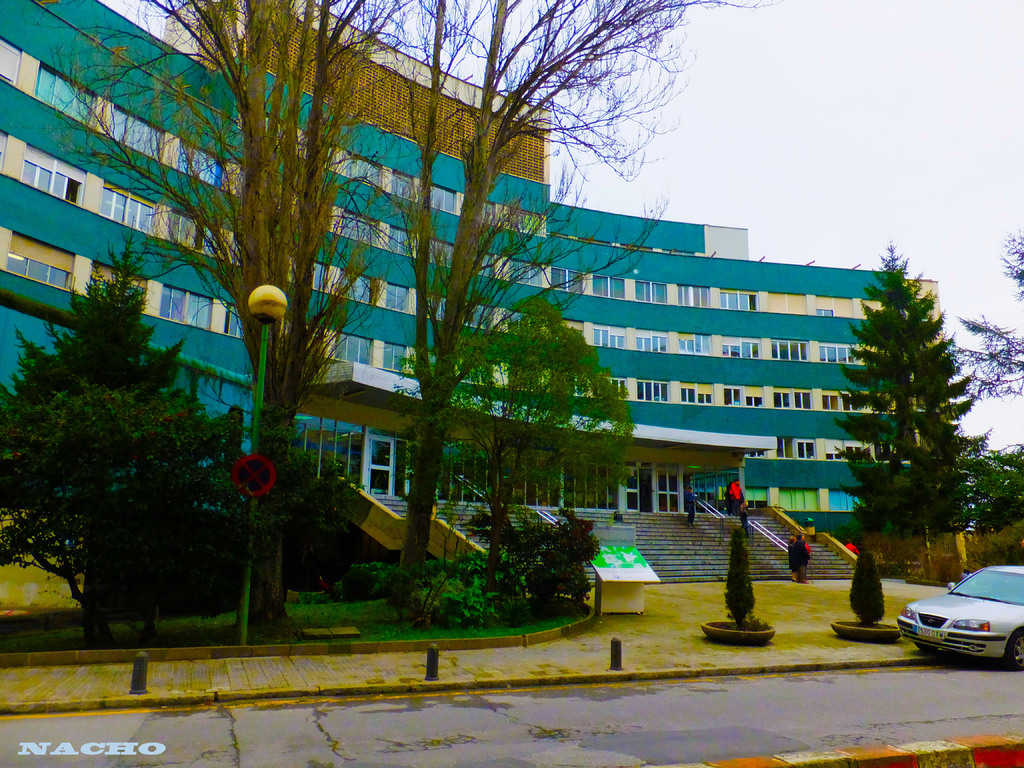Car: (892, 563, 1023, 670)
